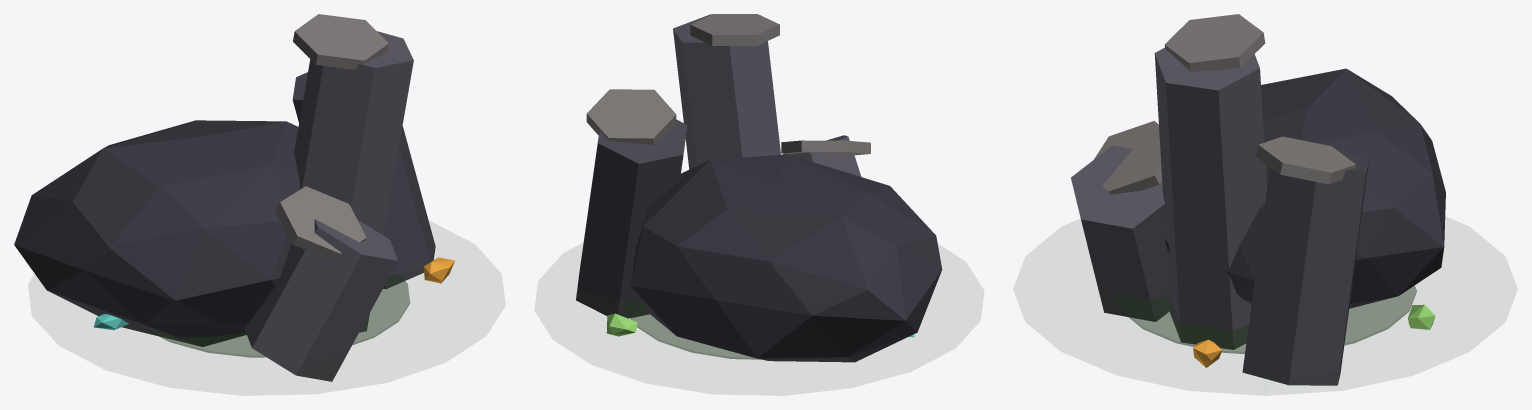
The model's file is rock_basalt.glb.
3 renders of one model, left to right at view 1: azimuth 30°, elevation 25°; view 2: azimuth 150°, elevation 25°; view 3: azimuth 270°, elevation 25°, orthographic. The views are drawn at different scales.
Parts seen in each view (by area): view 1: rock_basalt; view 2: rock_basalt; view 3: rock_basalt.
Boxes of the visible parts, left/top/right/bottom form: rock_basalt: left=14, top=14, right=454, bottom=381; rock_basalt: left=576, top=14, right=942, bottom=362; rock_basalt: left=1071, top=14, right=1445, bottom=395.
Bounding box in the file's own units: 1 × 0.6845 × 1.
